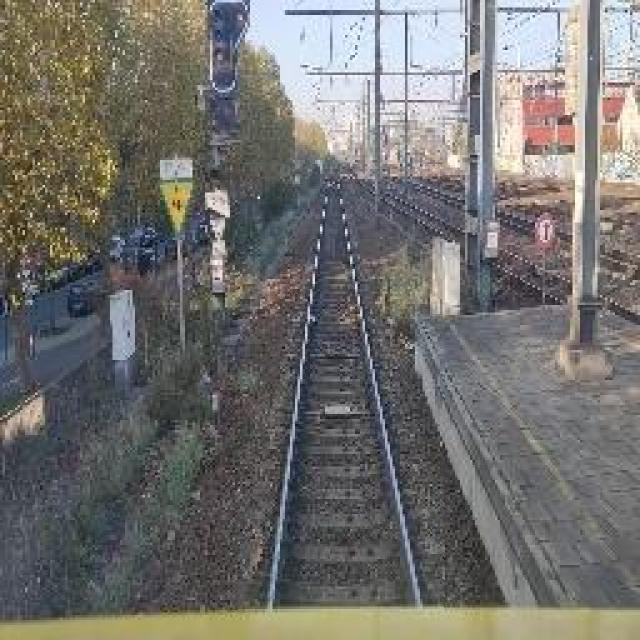rail: (240, 165, 445, 612)
